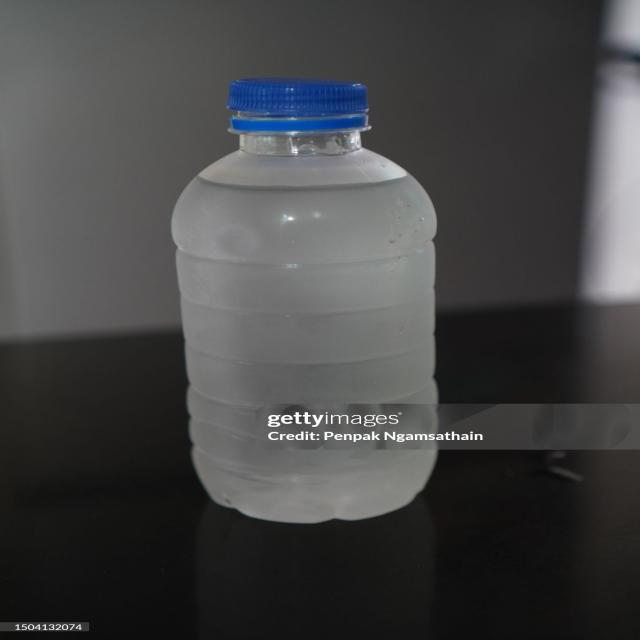bottle: (170, 70, 443, 526)
